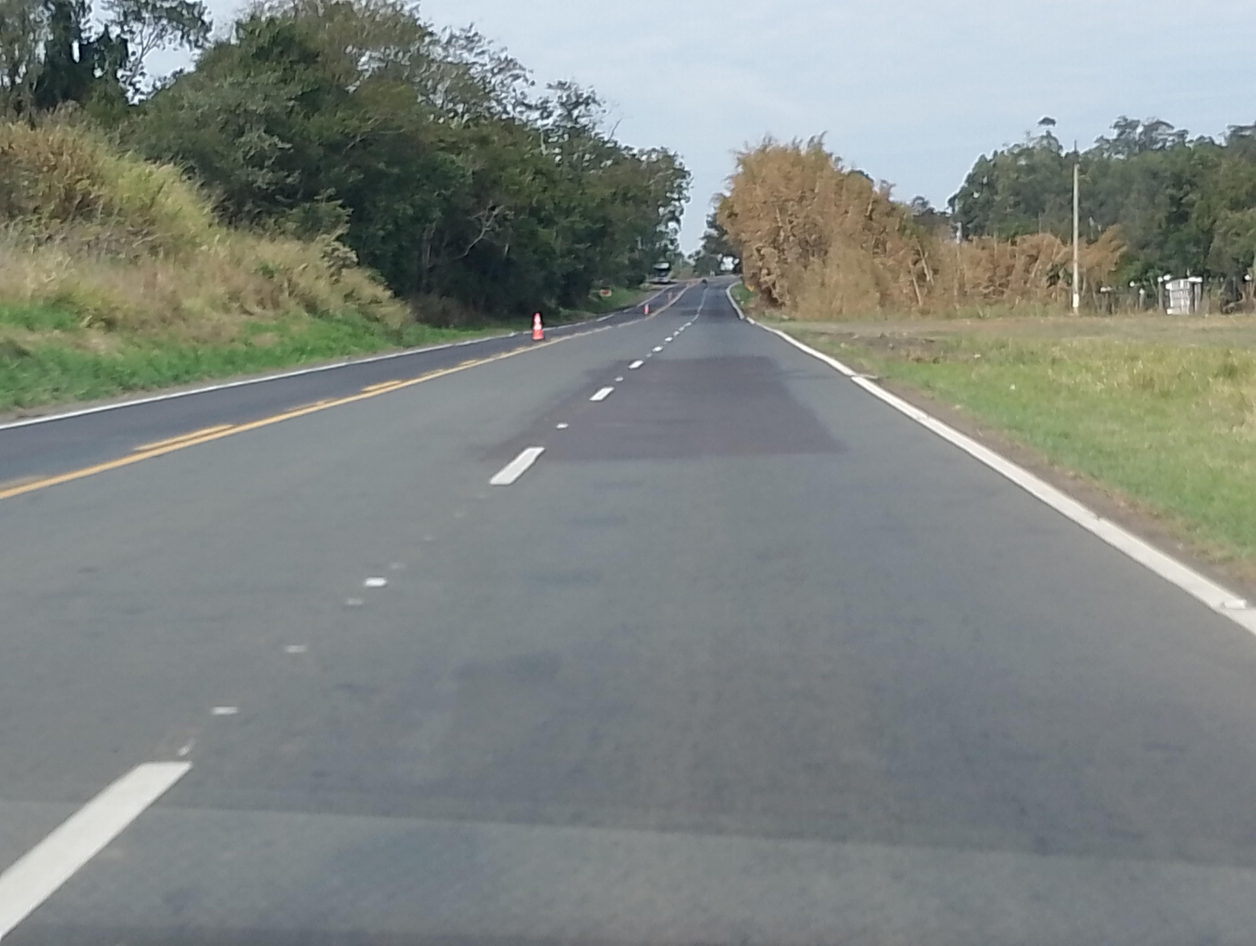PARCHE: (558, 355, 841, 462)
